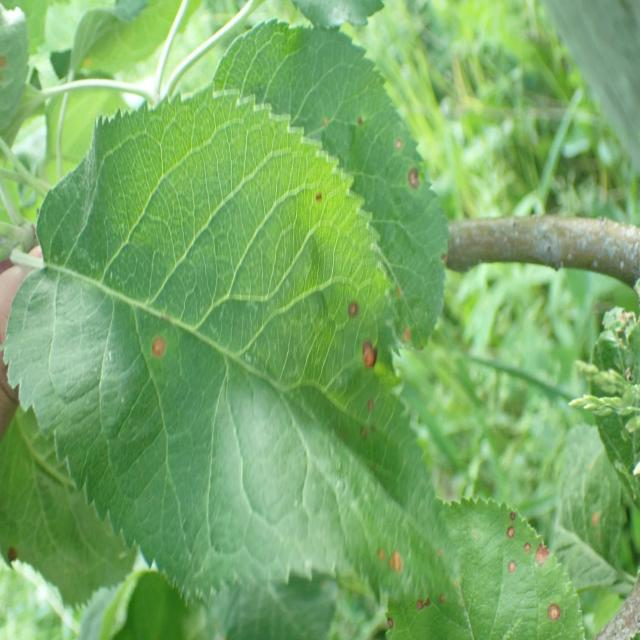Black Rot: (496, 510, 550, 581), (360, 527, 413, 595), (358, 332, 390, 391), (150, 328, 168, 389), (537, 600, 568, 635), (342, 290, 362, 330), (405, 159, 422, 200)
